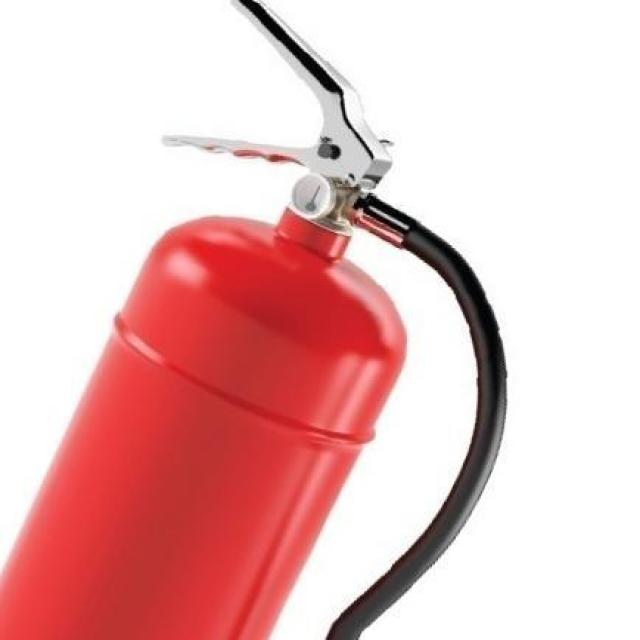fire_extinguisher: (0, 0, 516, 639)
